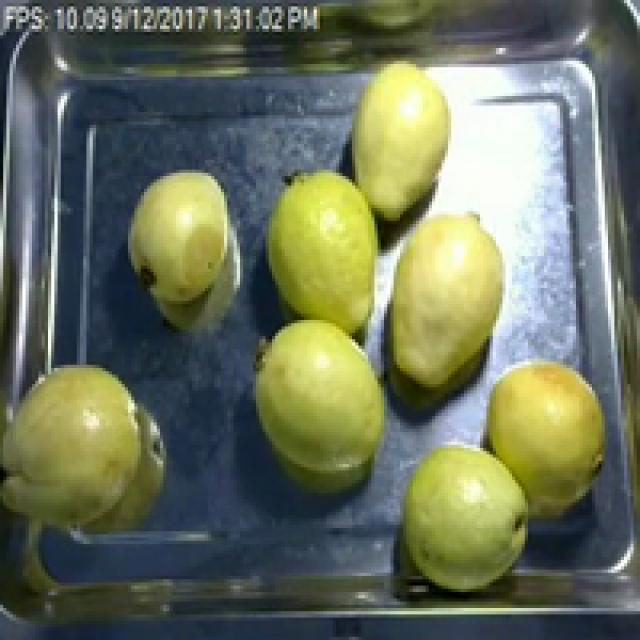Fruit: (0, 352, 179, 554), (378, 198, 522, 426), (246, 308, 397, 502), (252, 157, 393, 349), (473, 346, 618, 531), (387, 432, 538, 605), (336, 55, 470, 234), (122, 160, 243, 314)
